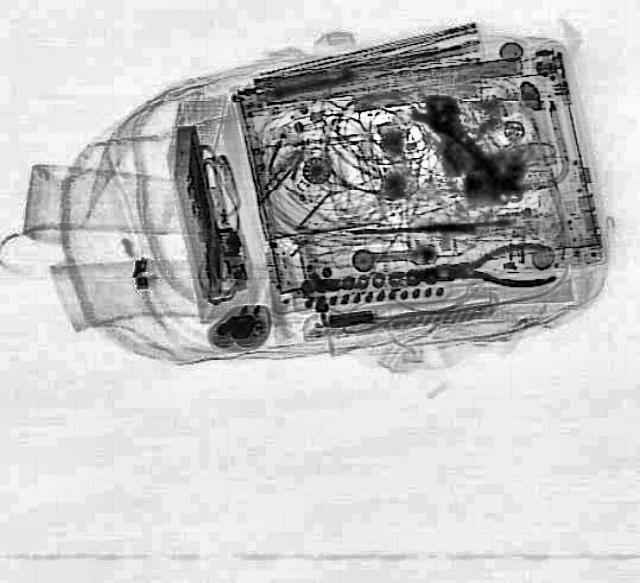Pliers: (410, 238, 556, 296)
